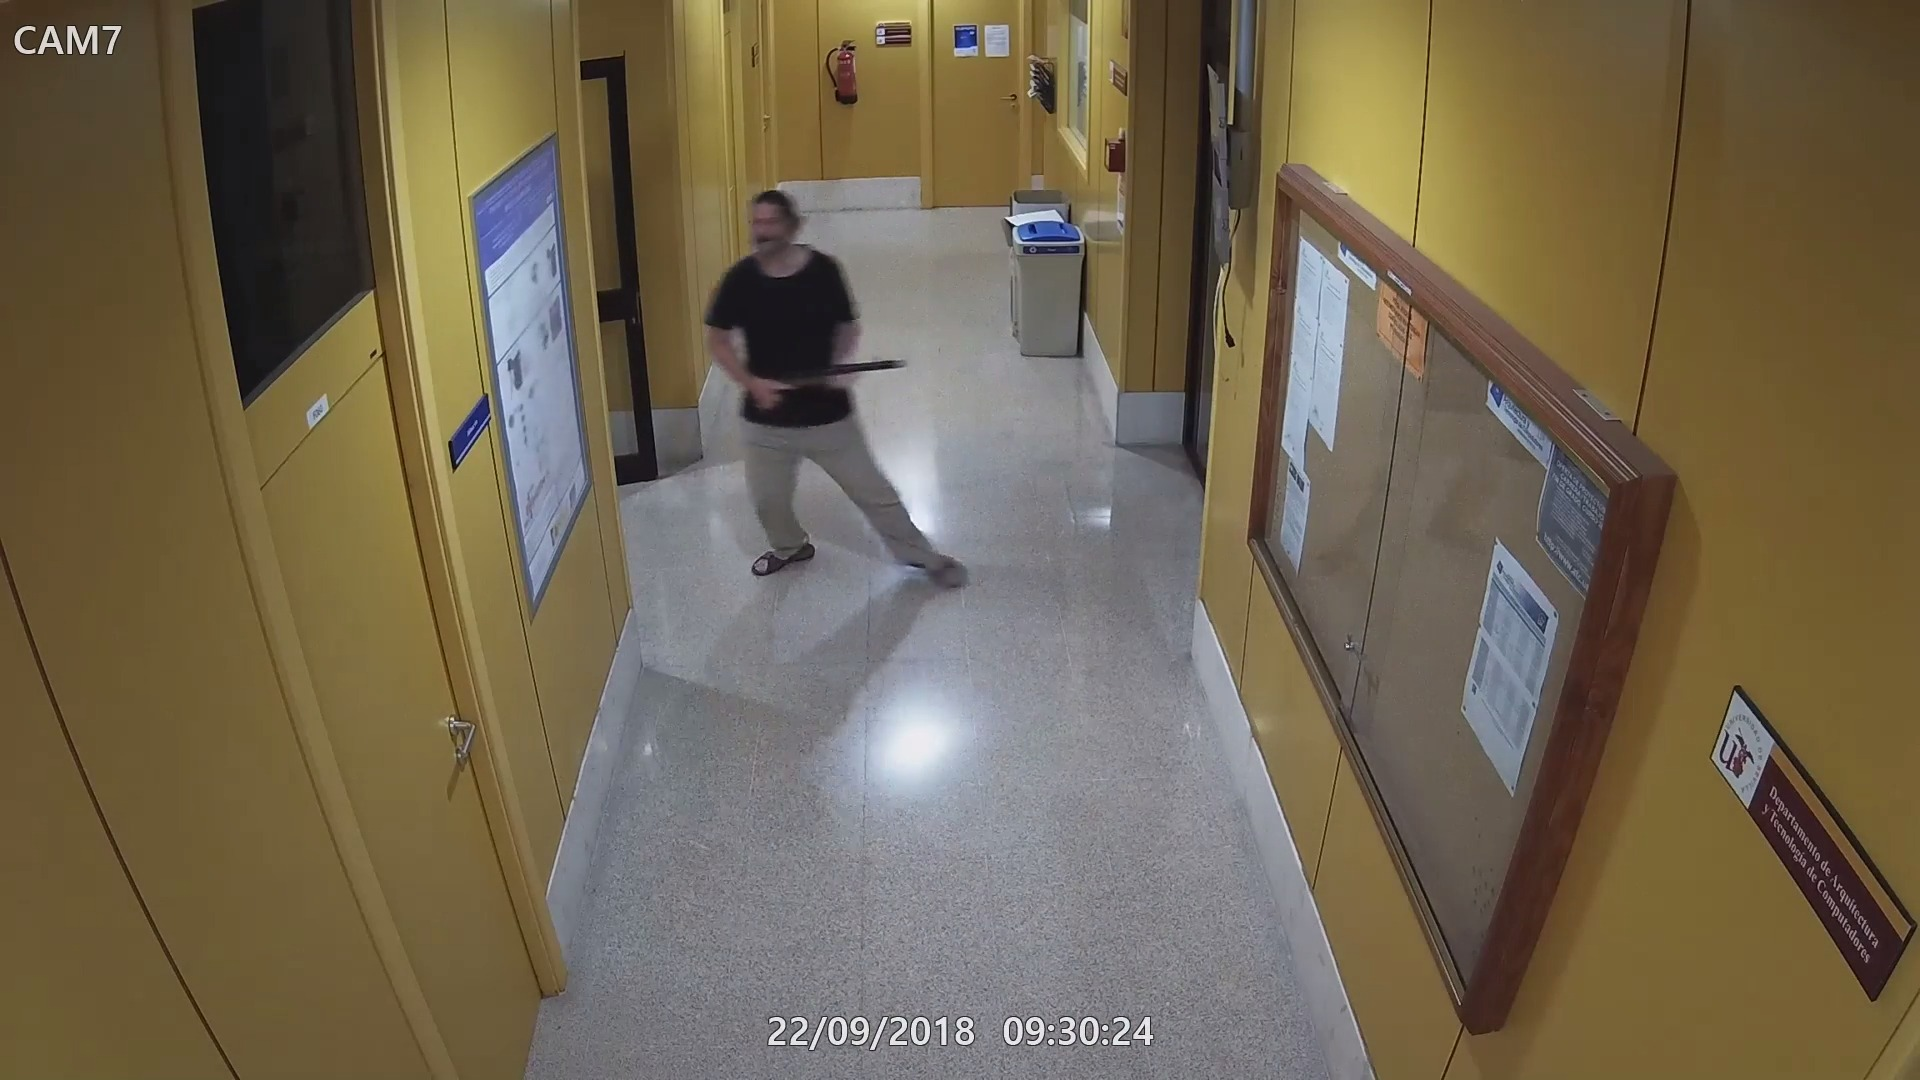Short_rifle: (741, 349, 913, 405)
